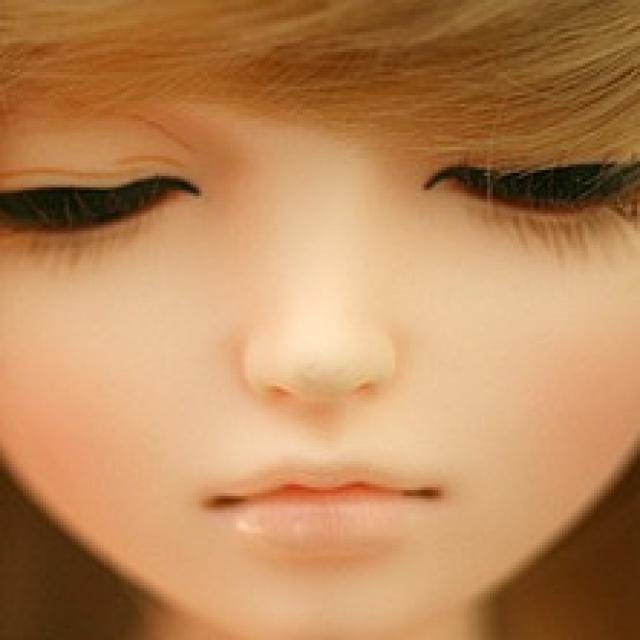Eyeclosed: (439, 143, 640, 236), (0, 163, 190, 249)
